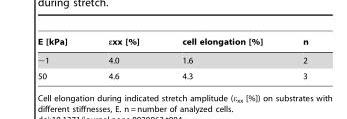table: (37, 37, 307, 80)
table column: (160, 37, 282, 80), (87, 37, 160, 80), (37, 37, 87, 80), (282, 37, 307, 80)
table column header: (37, 37, 307, 49)
table row: (37, 49, 307, 68), (37, 37, 307, 49), (37, 68, 307, 80)
